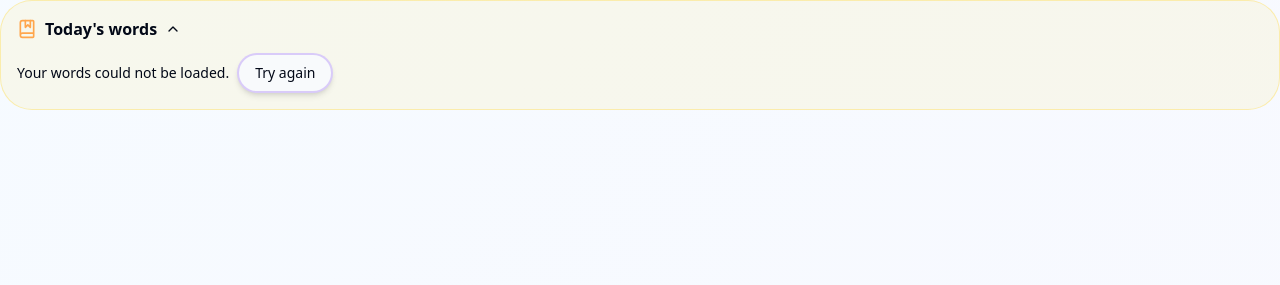
WordBankPanel › says so and offers a retry when the bank cannot load, and sends no words
Expected: the message shows "could not be loaded", [17, 63, 229, 82]
Click the button "Try again" at [285, 73], box [237, 53, 333, 93]
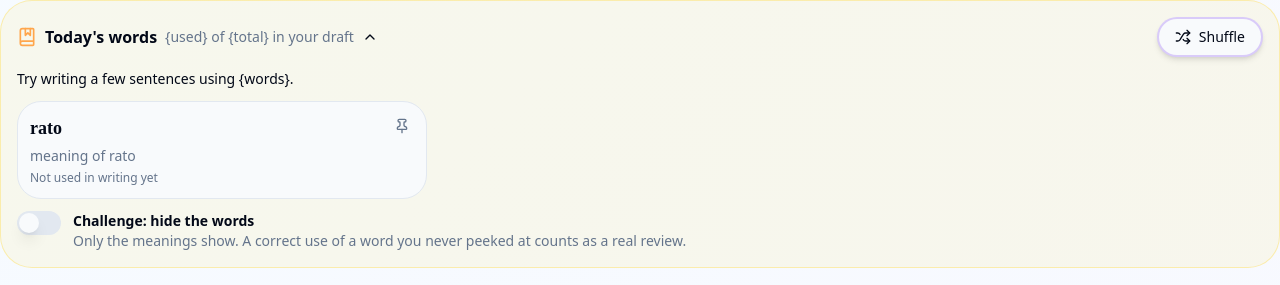
Result: the list item with test id "word-bank-chip" is shown at [17, 101, 427, 199]
